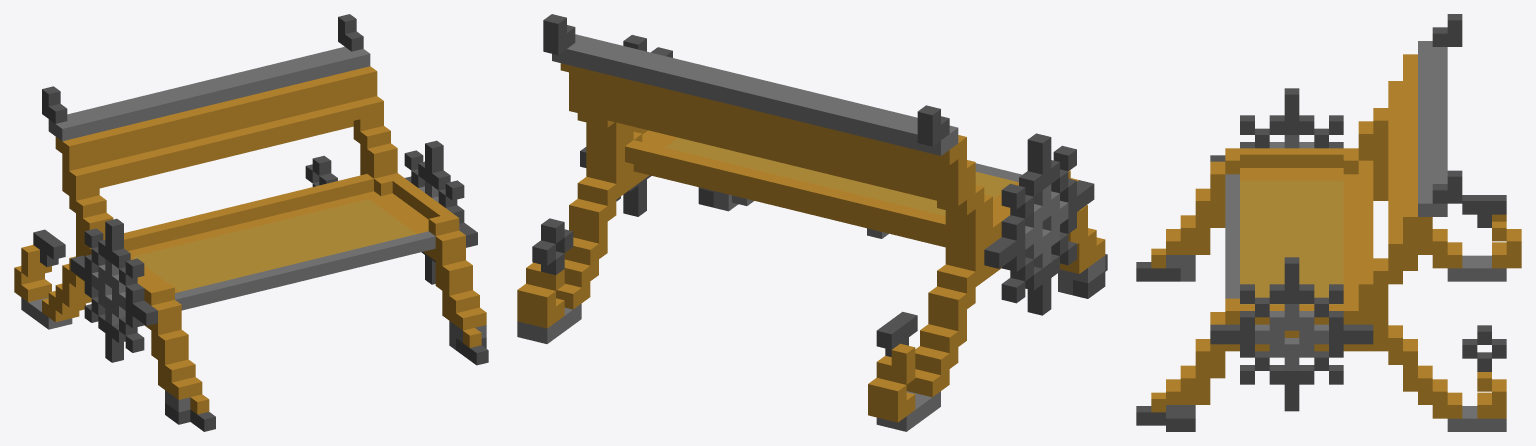
File: bench.obj
3 views of the same model, side by side, from view 1: azimuth 30°, elevation 25°; view 2: azimuth 150°, elevation 25°; view 3: azimuth 270°, elevation 25° (orthographic). The views are drawn at different scales.
Visible parts, largest first — view 1: bench; view 2: bench; view 3: bench.
Boxes of the visible parts, x1,y1,x2,y2 form: bench: (14,14,488,431); bench: (517,14,1107,431); bench: (1136,14,1521,431).
Bounding box in the file's own units: 28 × 19 × 26.
Materials: 1 (1 with a texture image).
